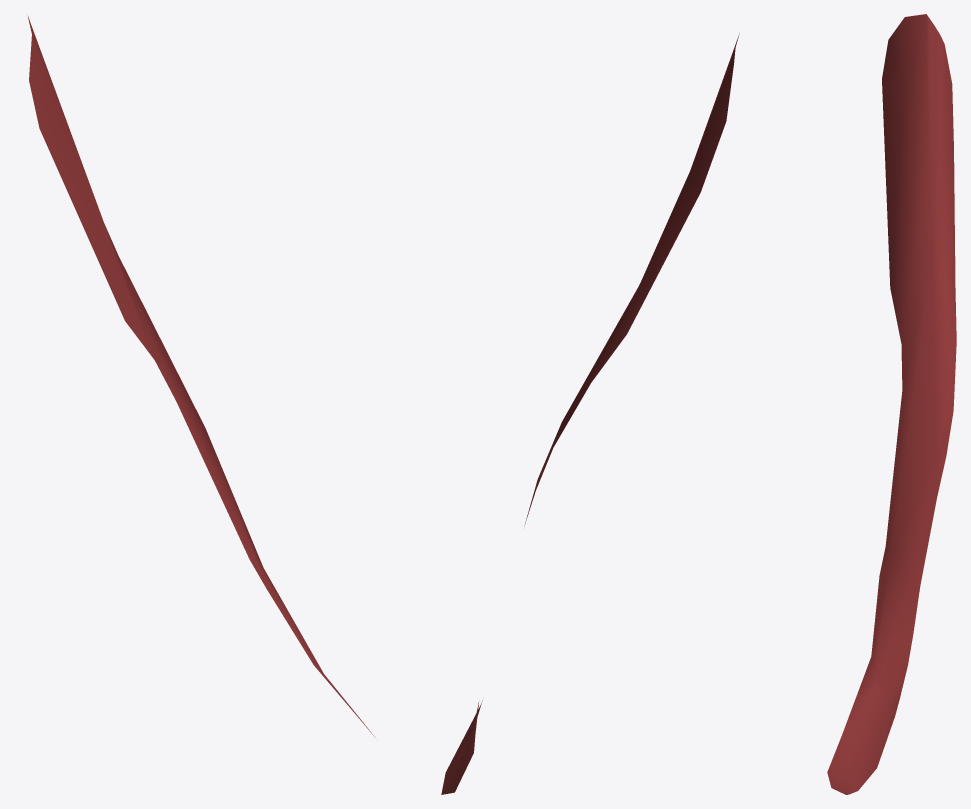
The model's file is extensor-carpi-radialis-longus-ol.glb.
The picture shows the model from 3 angles, left to right: view 1: azimuth 30°, elevation 25°; view 2: azimuth 150°, elevation 25°; view 3: azimuth 270°, elevation 25°; orthographic projection. The views are drawn at different scales.
Parts seen in each view (by area): view 1: Extensor carpi radialis longus.ol; view 2: Extensor carpi radialis longus.ol; view 3: Extensor carpi radialis longus.ol.
Part boxes in pixels (bbox=[...]): Extensor carpi radialis longus.ol: bbox=[28, 16, 374, 736]; Extensor carpi radialis longus.ol: bbox=[441, 33, 739, 794]; Extensor carpi radialis longus.ol: bbox=[827, 14, 956, 794].
Size of the model in its own units: 0.0214 by 0.0481 by 0.00863.
